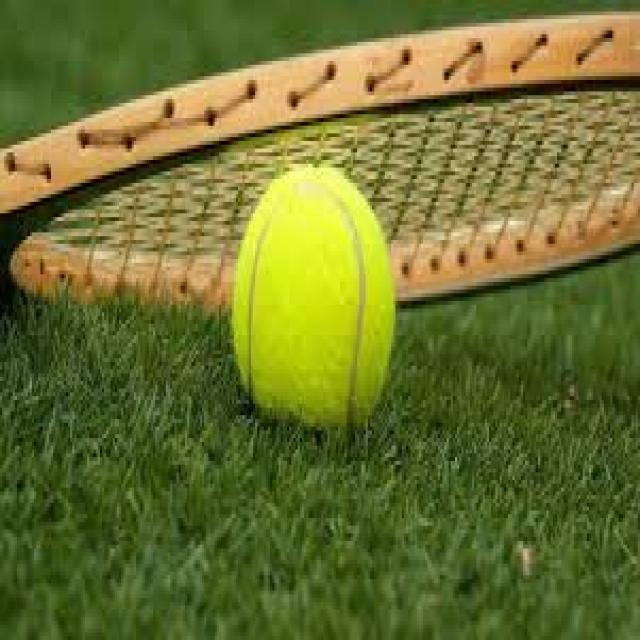ball: (234, 167, 394, 443)
